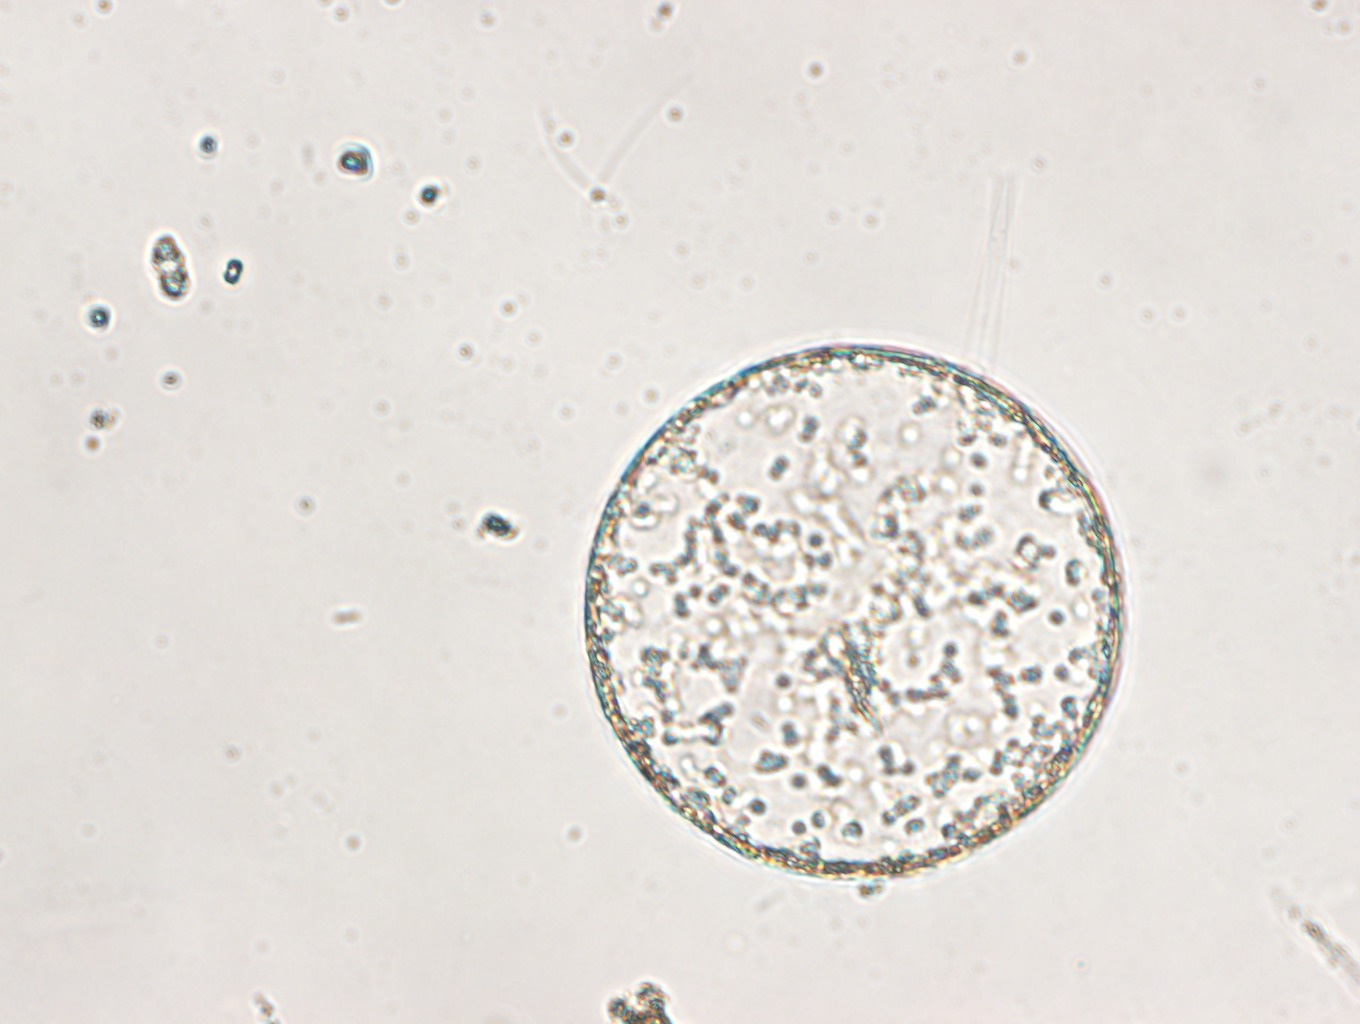coscinodiscus: (582, 337, 1131, 884)
